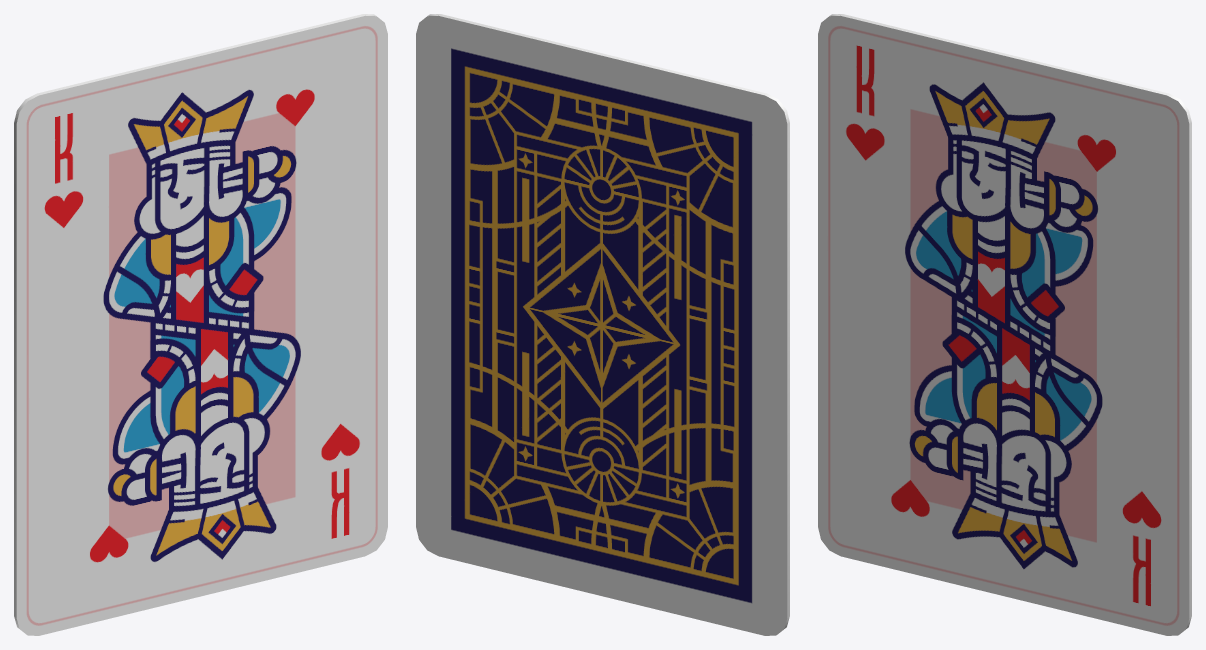
Rendered from card_hearts_king.glb.
The picture shows the model from 3 angles, left to right: view 1: azimuth 30°, elevation 25°; view 2: azimuth 150°, elevation 25°; view 3: azimuth 330°, elevation 25°; orthographic projection.
Visible parts, largest first — view 1: card_hearts_king; view 2: card_hearts_king; view 3: card_hearts_king.
Boxes of the visible parts, box(x1,y1,x2,y2) form: card_hearts_king: box(14, 14, 387, 635); card_hearts_king: box(416, 14, 789, 635); card_hearts_king: box(818, 14, 1191, 635).
Size of the model in its own units: 4.31 by 6 by 0.05.
2 materials, 2 textured.
